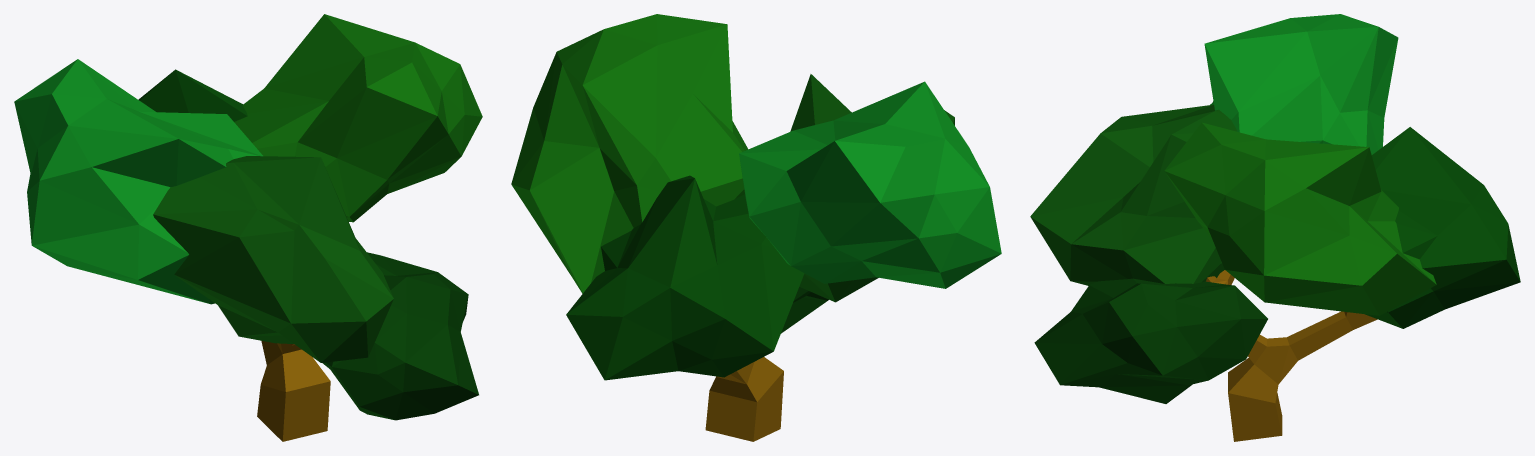
3 renders of one model, left to right at view 1: azimuth 30°, elevation 25°; view 2: azimuth 150°, elevation 25°; view 3: azimuth 270°, elevation 25°, orthographic. The views are drawn at different scales.
Parts seen in each view (by area): view 1: ICO球, ICO球.003, ICO球.004, ICO球.002, 平面, ICO球.001; view 2: ICO球.004, ICO球.003, ICO球.001, 平面, ICO球, ICO球.002; view 3: ICO球.004, ICO球, ICO球.003, ICO球.002, ICO球.001, 平面.
Part boxes in pixels (x1,y1,x2,y2): ICO球: (153,156,393,362); ICO球.003: (14,59,262,304); ICO球.004: (234,14,482,222); ICO球.002: (322,252,478,420); 平面: (257,340,330,441); ICO球.001: (138,69,247,121); ICO球.004: (511,14,748,293); ICO球.003: (739,81,1001,288); ICO球.001: (566,175,804,380); 平面: (705,357,783,441); ICO球: (790,74,954,302); ICO球.002: (781,287,828,333); ICO球.004: (1164,122,1436,315); ICO球: (1030,104,1236,285); ICO球.003: (1204,14,1398,154); ICO球.002: (1034,278,1267,403); ICO球.001: (1365,127,1520,328); 平面: (1206,270,1377,441).
Size of the model in its own units: 3211 by 2466 by 3262.
